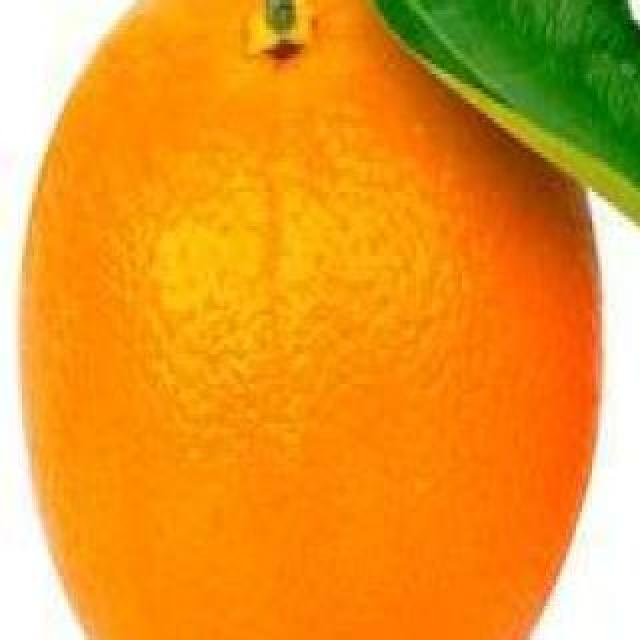orange: (14, 0, 610, 640)
